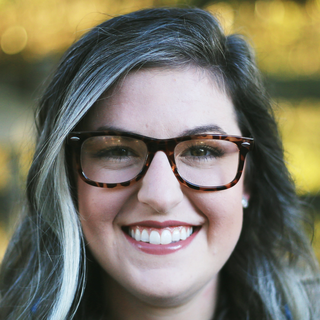eye: (184, 142, 228, 165), (97, 142, 141, 165)
